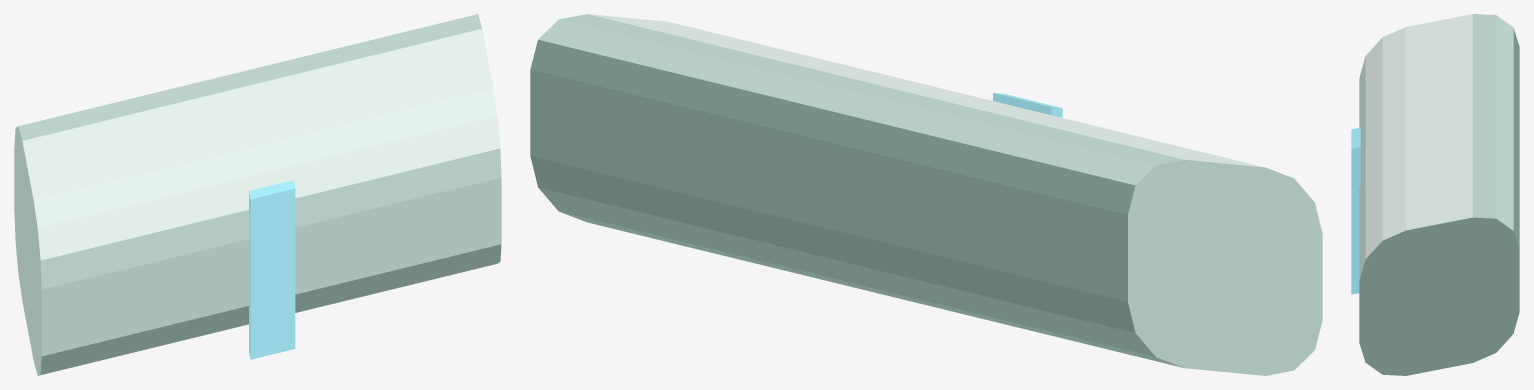
The model's file is Door_LeafFolded.gltf.
The picture shows the model from 3 angles, left to right: view 1: azimuth 30°, elevation 25°; view 2: azimuth 150°, elevation 25°; view 3: azimuth 270°, elevation 25°; orthographic projection. The views are drawn at different scales.
Parts seen in each view (by area): view 1: Door_LeafFolded_baked; view 2: Door_LeafFolded_baked; view 3: Door_LeafFolded_baked.
Boxes of the visible parts, x1,y1,x2,y2 form: Door_LeafFolded_baked: (14, 14, 501, 375); Door_LeafFolded_baked: (530, 14, 1322, 375); Door_LeafFolded_baked: (1351, 14, 1519, 375).
Size of the model in its own units: 0.816 by 0.3174 by 0.252.
